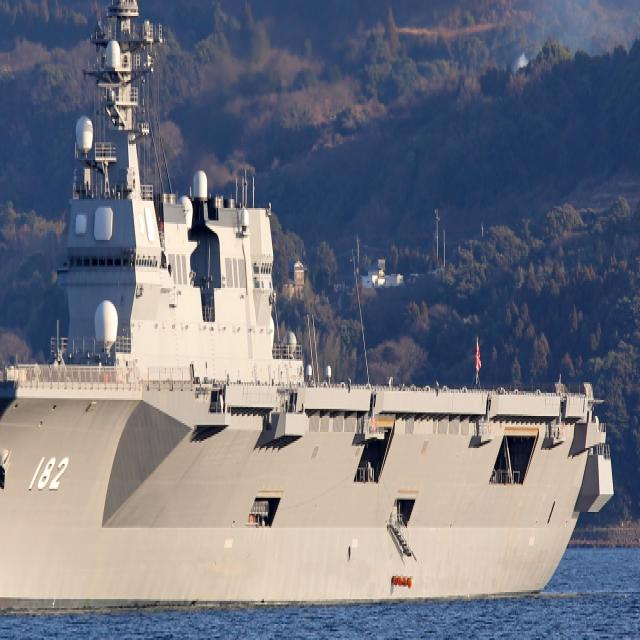Portanaves: (1, 1, 621, 627)
